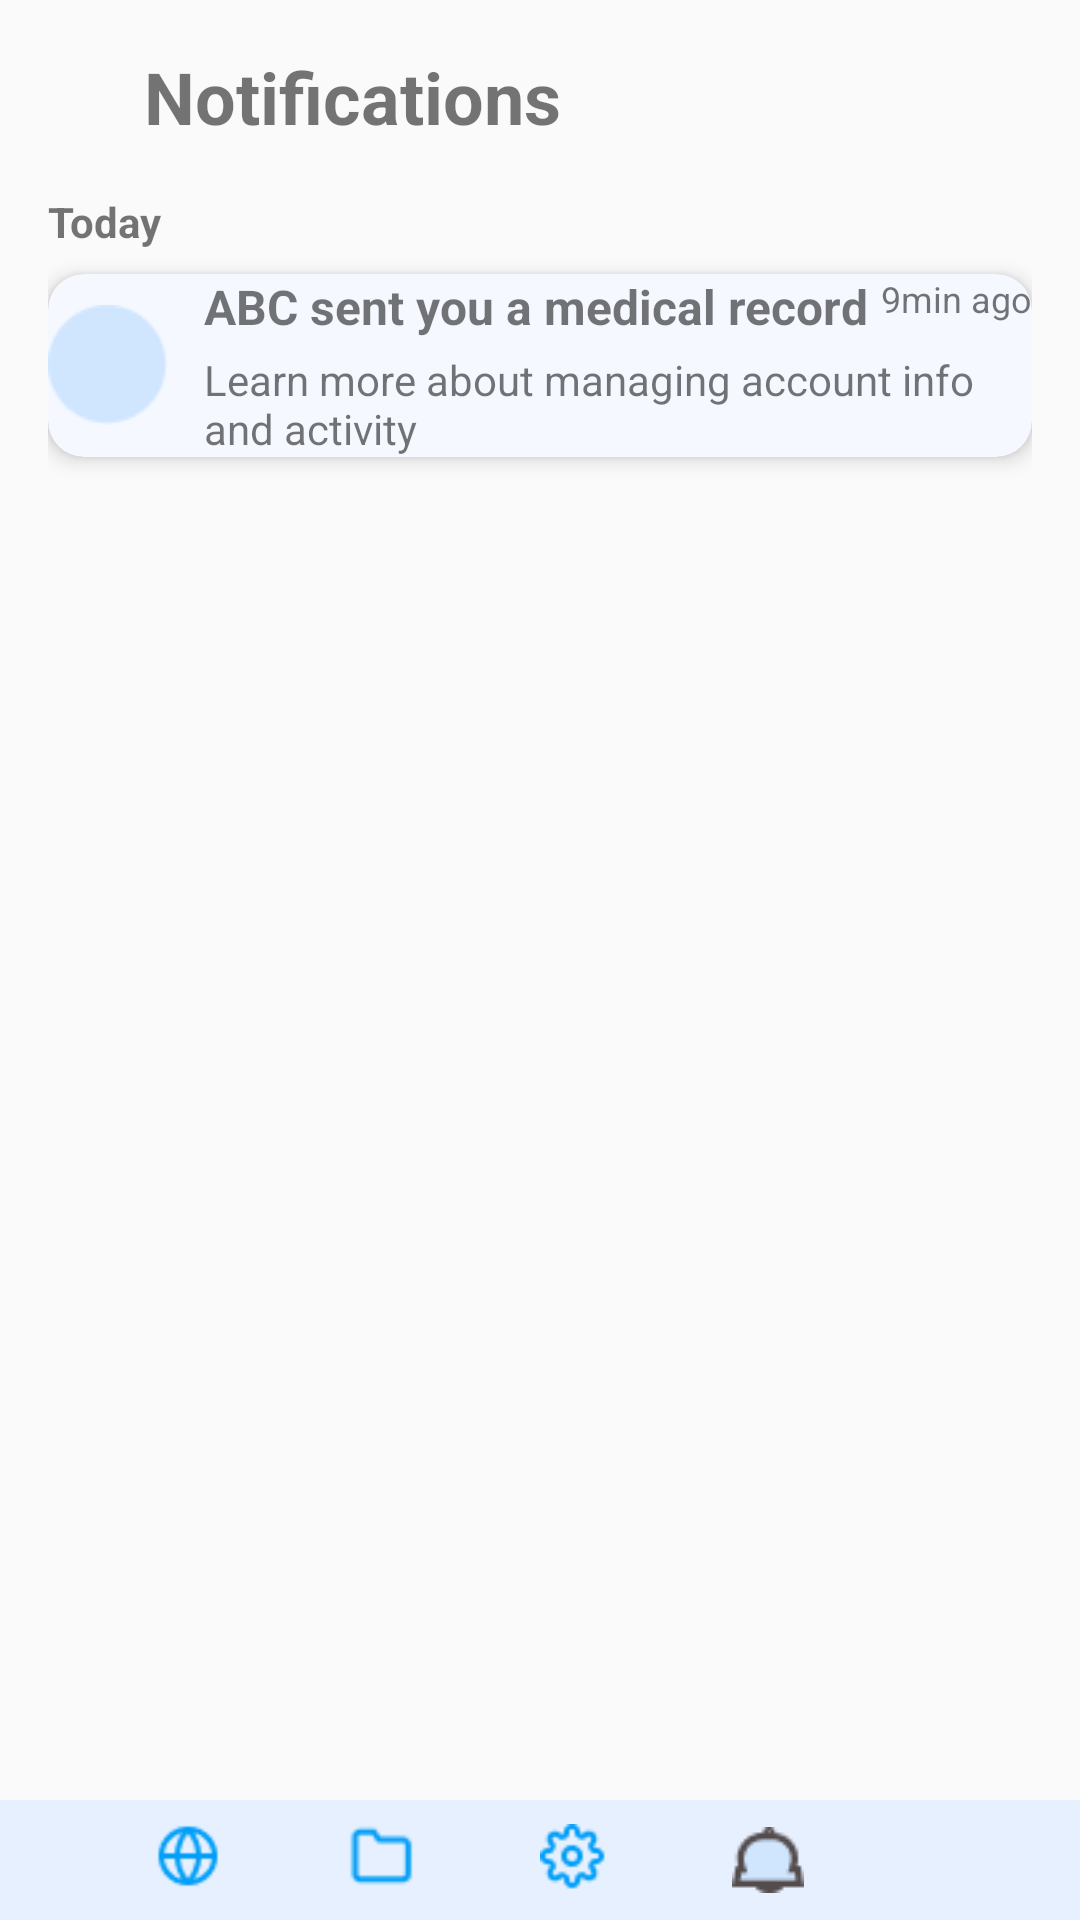

Point at icon controls on the screen. Image size 1080px×1920px, points as (x=x, y=y).
file: (x=381, y=1856)
Notifications: (x=768, y=1860)
Settings: (x=572, y=1856)
